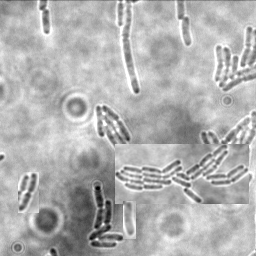Dividing: (123, 1, 142, 95), (18, 172, 39, 213), (41, 8, 52, 35)
Microcolony: (115, 144, 249, 204), (212, 25, 255, 94), (89, 184, 126, 248), (96, 103, 132, 150), (123, 201, 136, 239), (182, 16, 193, 48)
